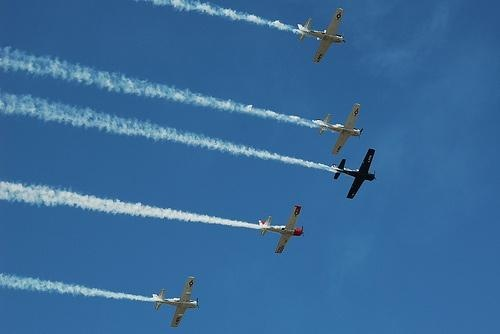aeroplane: (314, 105, 364, 156), (299, 10, 347, 63), (155, 277, 201, 329), (334, 149, 378, 200), (261, 208, 305, 254)
